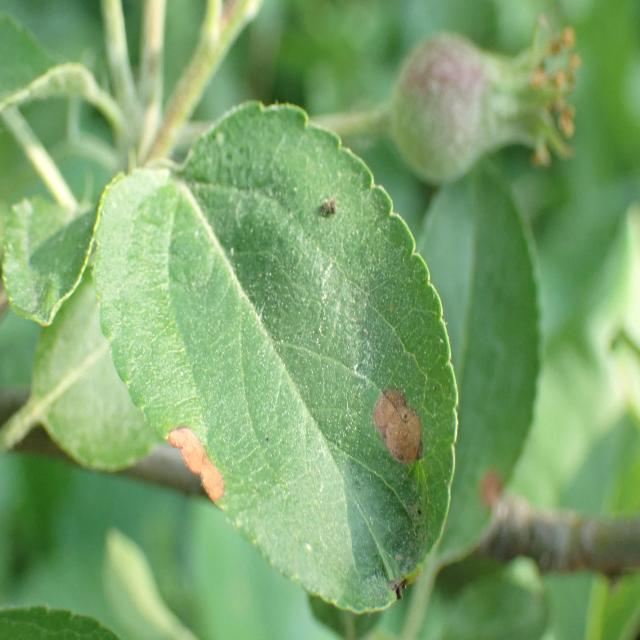Black Rot: (159, 425, 244, 517), (375, 375, 431, 481)
